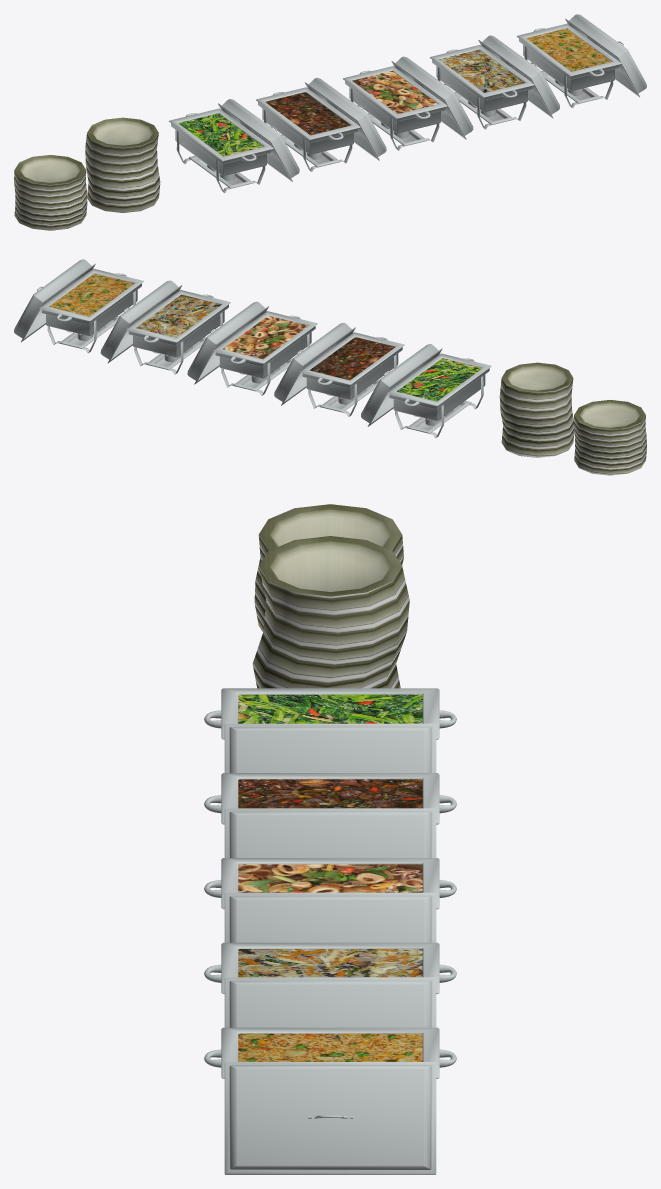
3 renders of one model, top to bottom at view 1: azimuth 30°, elevation 25°; view 2: azimuth 150°, elevation 25°; view 3: azimuth 270°, elevation 25°, orthographic. The views are drawn at different scales.
Parts seen in each view (by area): view 1: Stack of Plate, Stack of Plate 2, Food Warmer 5, Food Warmer 2, Food Warmer, Food Warmer 3, Food Warmer 4, Capjay, Nasi Goreng, Cumi Kuah, Semur Daging, Cah Kangkung (+5 smaller); view 2: Stack of Plate, Stack of Plate 2, Food Warmer 5, Food Warmer 3, Food Warmer, Food Warmer 4, Food Warmer 2, Nasi Goreng, Capjay, Cumi Kuah, Semur Daging, Cah Kangkung (+5 smaller); view 3: Food Warmer Lid, Stack of Plate, Food Warmer Lid 2, Food Warmer Lid 3, Food Warmer Lid 4, Food Warmer Lid 5, Semur Daging, Cah Kangkung, Capjay, Cumi Kuah, Nasi Goreng, Stack of Plate 2 (+5 smaller).
Part boxes in pixels (x1,y1,x2,y2): Stack of Plate: (85, 117, 160, 212); Stack of Plate 2: (14, 155, 87, 230); Food Warmer 5: (168, 108, 273, 193); Food Warmer 2: (429, 45, 534, 129); Food Warmer: (516, 23, 621, 108); Food Warmer 3: (343, 66, 447, 150); Food Warmer 4: (256, 87, 360, 171); Capjay: (439, 49, 524, 92); Nasi Goreng: (526, 28, 611, 71); Cumi Kuah: (352, 71, 437, 113); Semur Daging: (265, 92, 350, 135); Cah Kangkung: (178, 113, 263, 156); Stack of Plate: (499, 362, 574, 457); Stack of Plate 2: (573, 400, 646, 475); Food Warmer 5: (387, 353, 491, 438); Food Warmer 3: (213, 311, 317, 395); Food Warmer: (39, 268, 143, 353); Food Warmer 4: (300, 332, 404, 416); Food Warmer 2: (126, 290, 230, 374); Nasi Goreng: (49, 273, 134, 316); Capjay: (136, 294, 221, 337); Cumi Kuah: (223, 316, 308, 358); Semur Daging: (309, 337, 394, 380); Cah Kangkung: (397, 358, 482, 401); Food Warmer Lid: (224, 1062, 436, 1174); Stack of Plate: (252, 536, 409, 688); Food Warmer Lid 2: (224, 977, 436, 1027); Food Warmer Lid 3: (224, 892, 436, 942); Food Warmer Lid 4: (224, 808, 436, 857); Food Warmer Lid 5: (224, 723, 436, 772); Semur Daging: (238, 779, 422, 808); Cah Kangkung: (238, 694, 422, 723); Capjay: (238, 949, 422, 977); Cumi Kuah: (238, 864, 422, 892); Nasi Goreng: (238, 1033, 422, 1061); Stack of Plate 2: (254, 504, 403, 631).
Bounding box in the file's own units: 5.82 × 0.6 × 1.06.
Materials: 7 (7 with a texture image).
